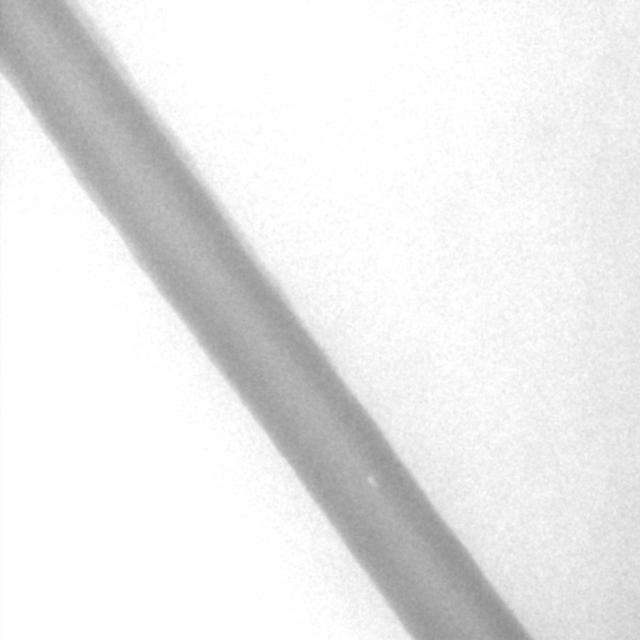air hole: (365, 471, 380, 490)
